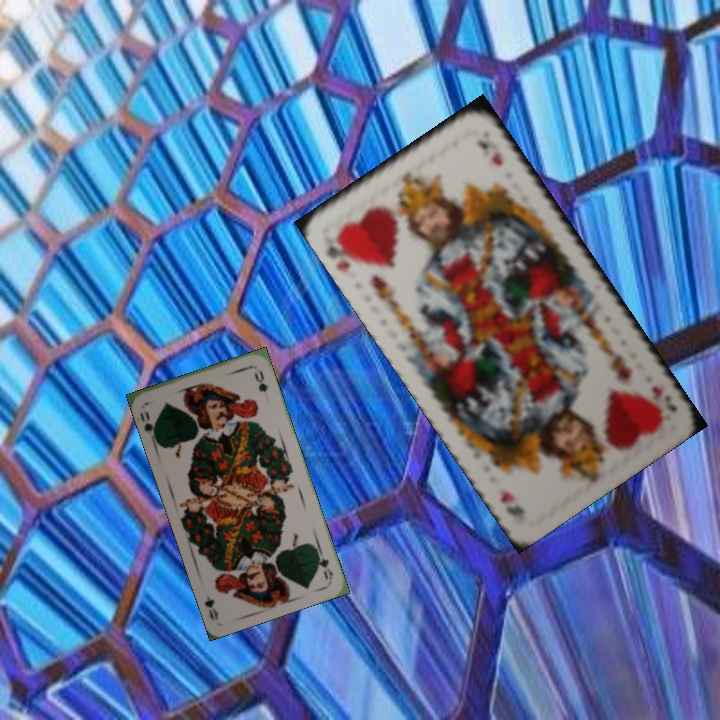GO: (310, 543, 335, 582), (135, 406, 159, 443)
HK: (323, 228, 364, 274), (647, 382, 681, 415)
